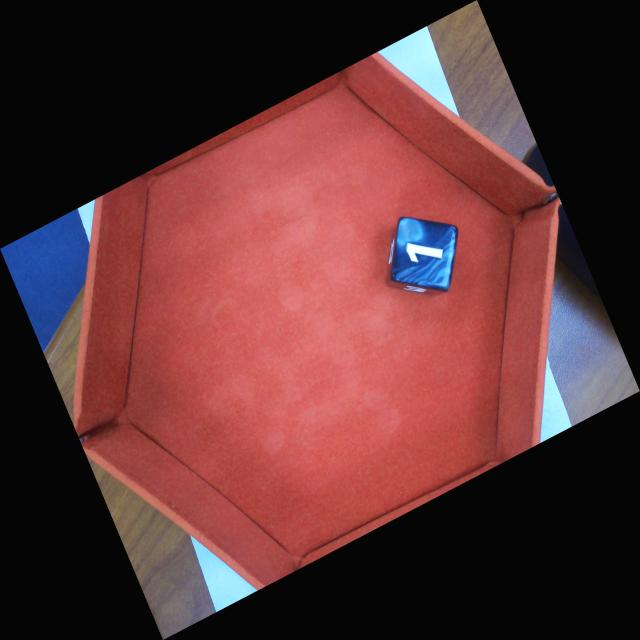dice: (397, 219, 458, 291)
